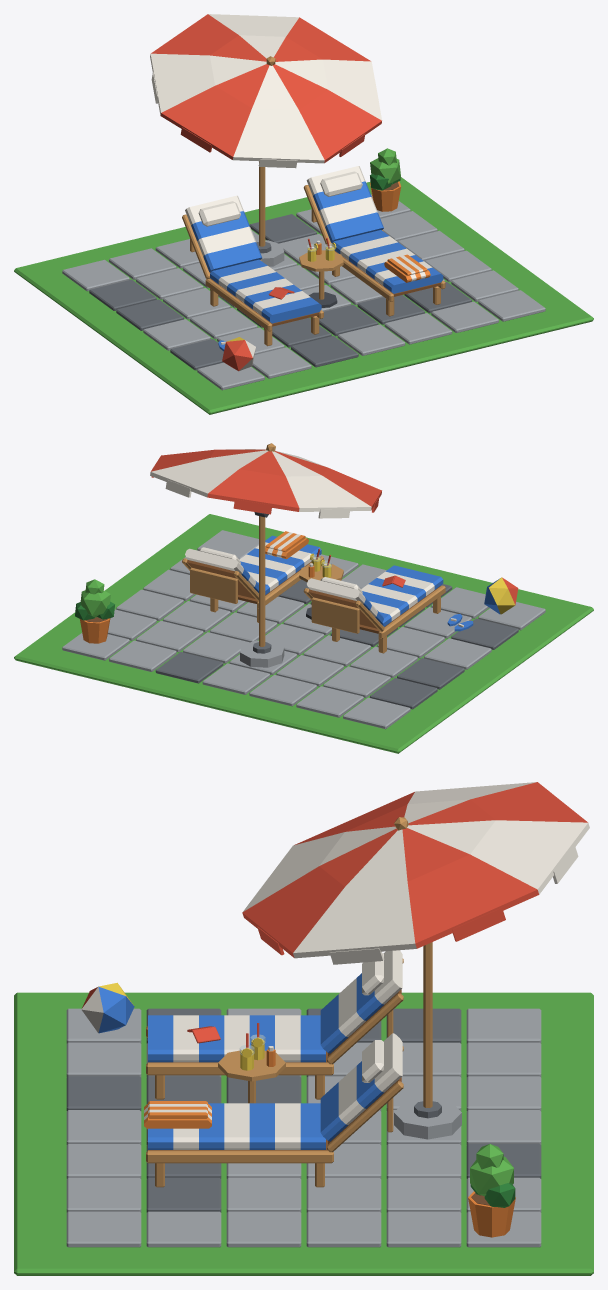
Rendered from low-poly-sun-lounge-set.glb.
The picture shows the model from 3 angles, top to bottom: view 1: azimuth 30°, elevation 25°; view 2: azimuth 150°, elevation 25°; view 3: azimuth 270°, elevation 25°; orthographic projection. The views are drawn at different scales.
Parts seen in each view (by area): view 1: Canopy, Grass_Patch, Lounger_L_SeatCushion, Lounger_L_BackCushion, Lounger_R_BackCushion, Lounger_R_SeatCushion, Paving_4_0, Paving_3_0, Paving_2_0, Paving_5_0, Paving_6_0, Paving_0_4 (+32 smaller); view 2: Grass_Patch, Canopy, Lounger_L_SeatCushion, Lounger_R_SeatCushion, Paving_4_5, Paving_2_5, Paving_5_5, Paving_0_5, Paving_1_5, Paving_3_5, Lounger_L_Strut, Lounger_R_Strut (+40 smaller); view 3: Grass_Patch, Canopy, Lounger_L_SeatCushion, Lounger_R_SeatCushion, Lounger_R_BackCushion, Lounger_L_BackCushion, Paving_6_0, Paving_6_1, Paving_6_2, Paving_6_3, Paving_6_4, Paving_0_5 (+45 smaller).
Boxes of the visible parts, bbox=[...] form: Canopy: bbox=[150, 14, 381, 163]; Grass_Patch: bbox=[14, 177, 593, 414]; Lounger_L_SeatCushion: bbox=[210, 259, 321, 323]; Lounger_L_BackCushion: bbox=[185, 195, 262, 272]; Lounger_R_BackCushion: bbox=[306, 166, 383, 242]; Lounger_R_SeatCushion: bbox=[332, 230, 443, 293]; Paving_4_0: bbox=[384, 313, 452, 344]; Paving_3_0: bbox=[337, 324, 405, 355]; Paving_2_0: bbox=[291, 336, 358, 367]; Paving_5_0: bbox=[431, 301, 498, 332]; Paving_6_0: bbox=[478, 290, 545, 321]; Paving_0_4: bbox=[89, 279, 156, 310]; Grass_Patch: bbox=[14, 514, 593, 753]; Canopy: bbox=[150, 449, 381, 511]; Lounger_L_SeatCushion: bbox=[361, 565, 443, 626]; Lounger_R_SeatCushion: bbox=[239, 535, 321, 594]; Paving_4_5: bbox=[155, 652, 223, 683]; Paving_2_5: bbox=[249, 674, 316, 706]; Paving_5_5: bbox=[109, 640, 176, 671]; Paving_0_5: bbox=[343, 697, 410, 729]; Paving_1_5: bbox=[296, 686, 363, 717]; Paving_3_5: bbox=[202, 663, 270, 694]; Lounger_L_Strut: bbox=[311, 597, 359, 633]; Lounger_R_Strut: bbox=[190, 568, 237, 603]; Grass_Patch: bbox=[14, 992, 593, 1275]; Canopy: bbox=[242, 782, 589, 958]; Lounger_L_SeatCushion: bbox=[148, 1015, 325, 1062]; Lounger_R_SeatCushion: bbox=[148, 1103, 325, 1149]; Lounger_R_BackCushion: bbox=[320, 1033, 402, 1141]; Lounger_L_BackCushion: bbox=[320, 950, 402, 1053]; Paving_6_0: bbox=[66, 1211, 141, 1247]; Paving_6_1: bbox=[146, 1211, 221, 1247]; Paving_6_2: bbox=[226, 1211, 301, 1247]; Paving_6_3: bbox=[306, 1211, 381, 1247]; Paving_6_4: bbox=[386, 1211, 461, 1247]; Paving_0_5: bbox=[466, 1008, 541, 1043].
Size of the model in its own units: 16.5 by 8.85 by 14.5.
